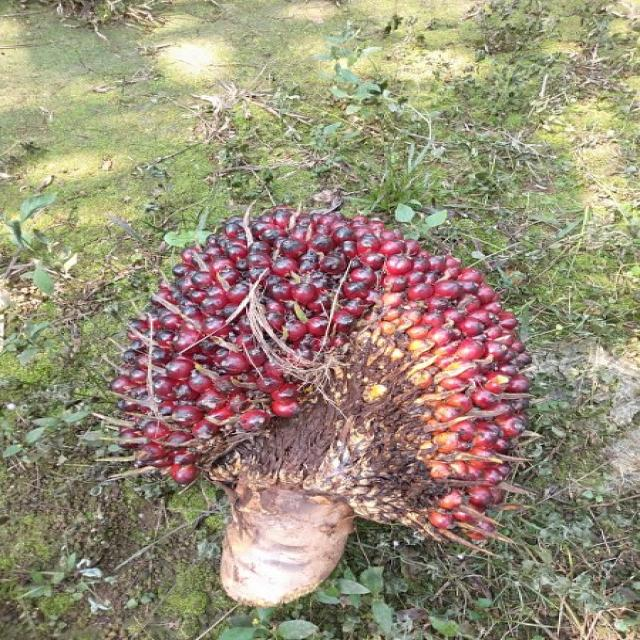fraksi 1: (71, 154, 557, 603)
